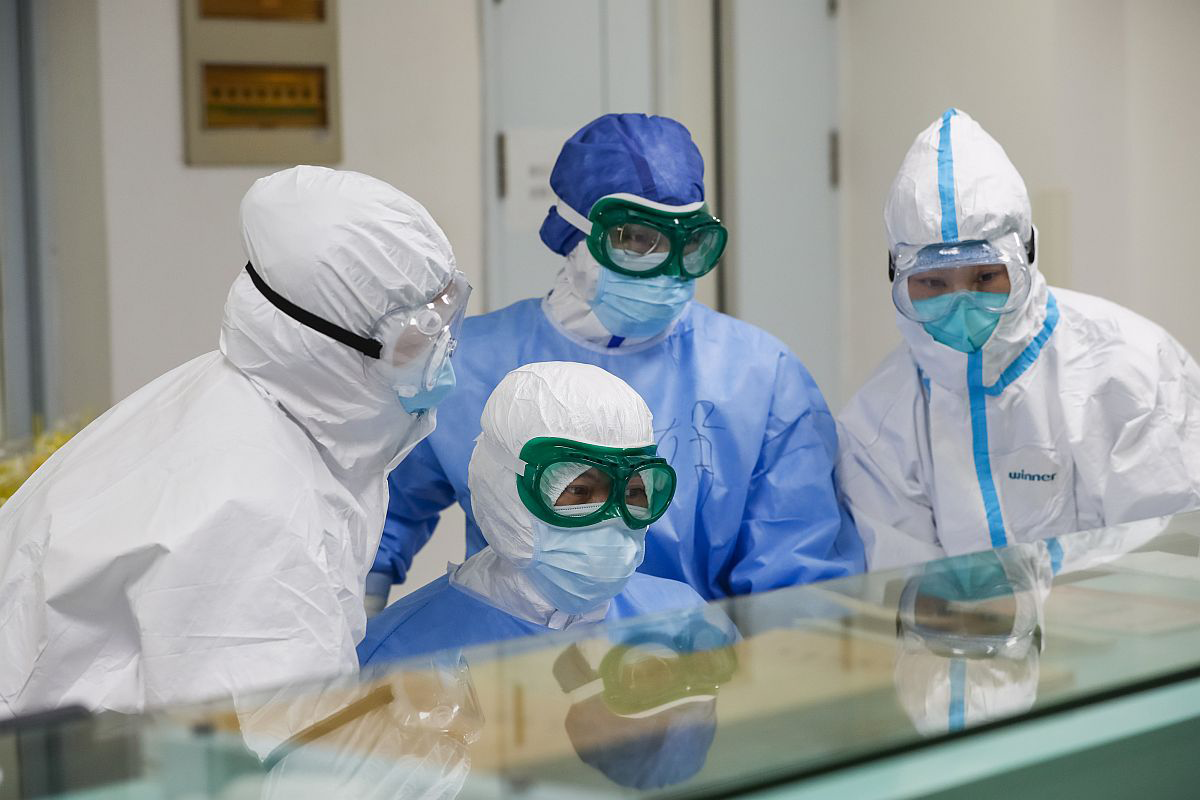Coverall: (5, 163, 462, 670), (375, 113, 862, 574), (828, 123, 1199, 578), (375, 372, 735, 679)
Goggles: (516, 439, 679, 532), (589, 194, 731, 288), (887, 234, 1036, 323), (363, 270, 472, 369)
Mask: (524, 454, 651, 604), (589, 220, 710, 340), (911, 271, 1013, 352), (401, 357, 459, 412)
